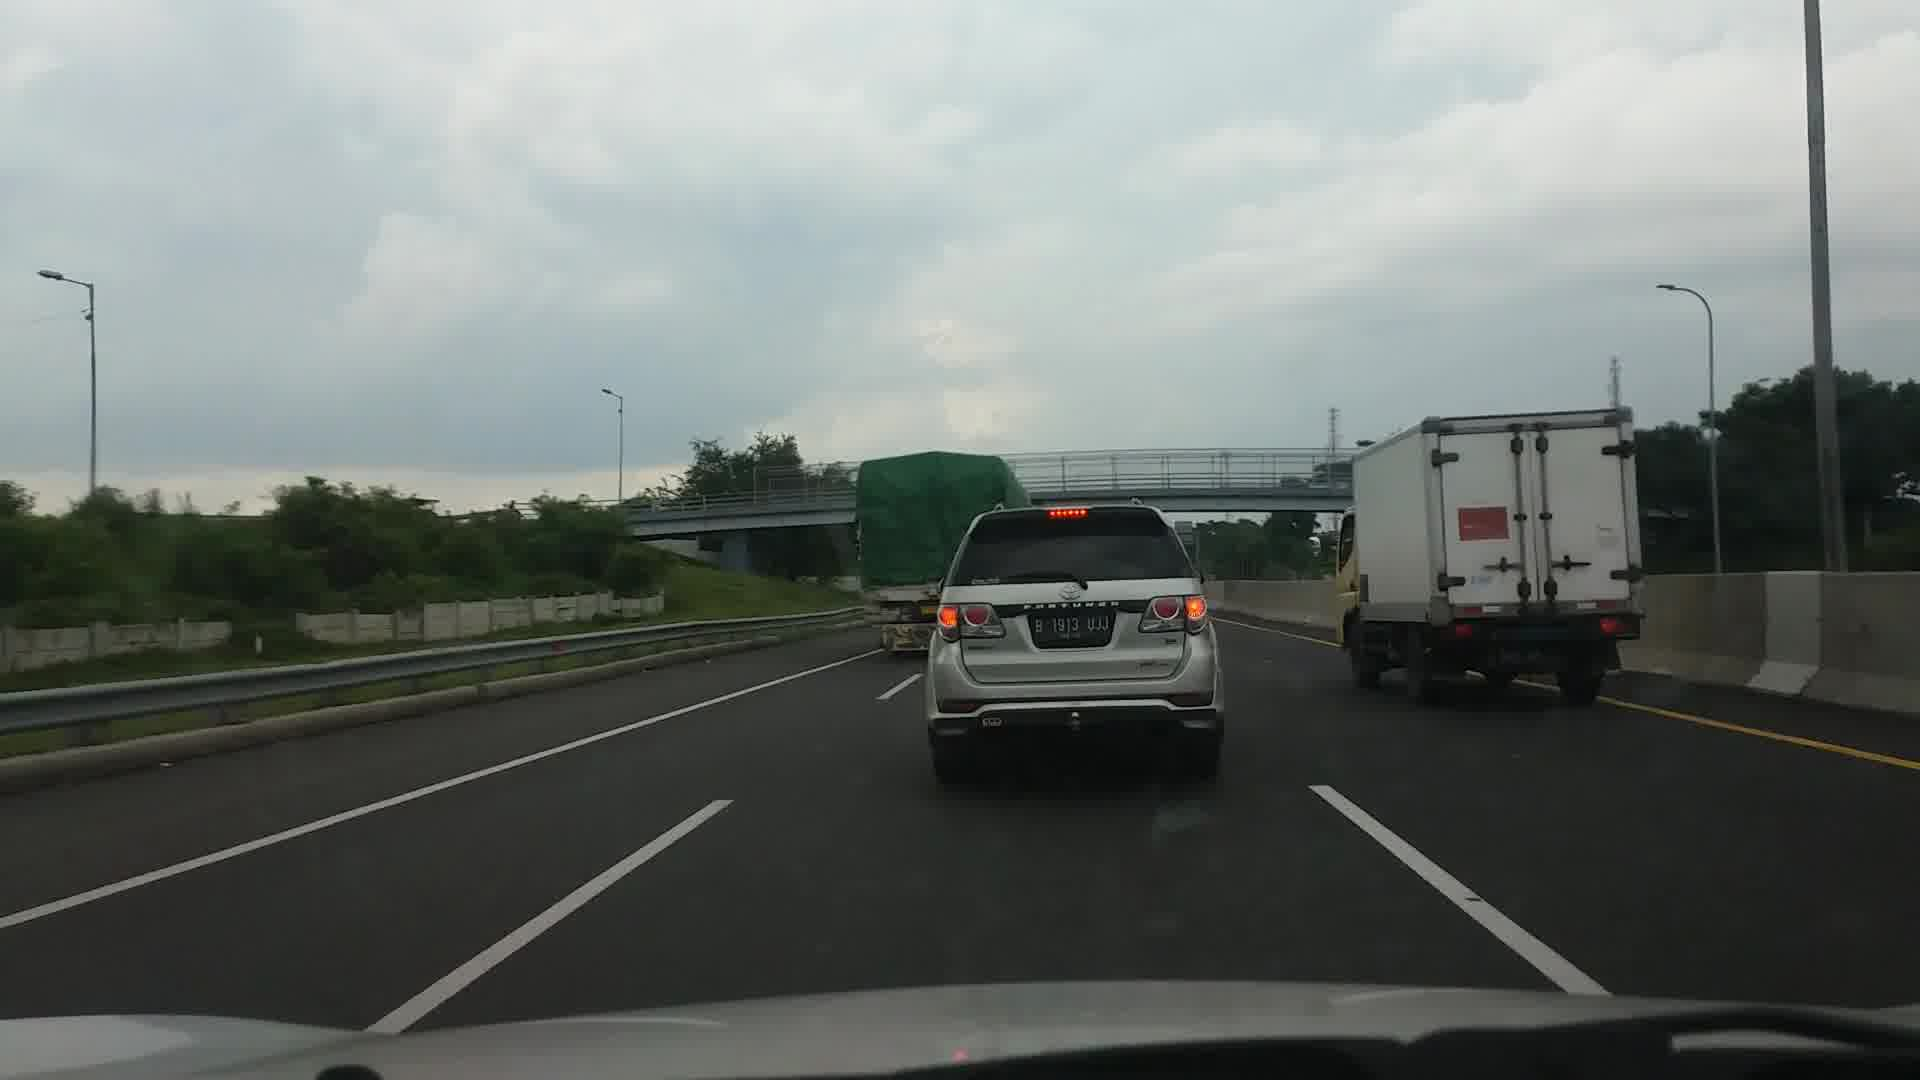plate_positive: (1033, 615, 1110, 640)
